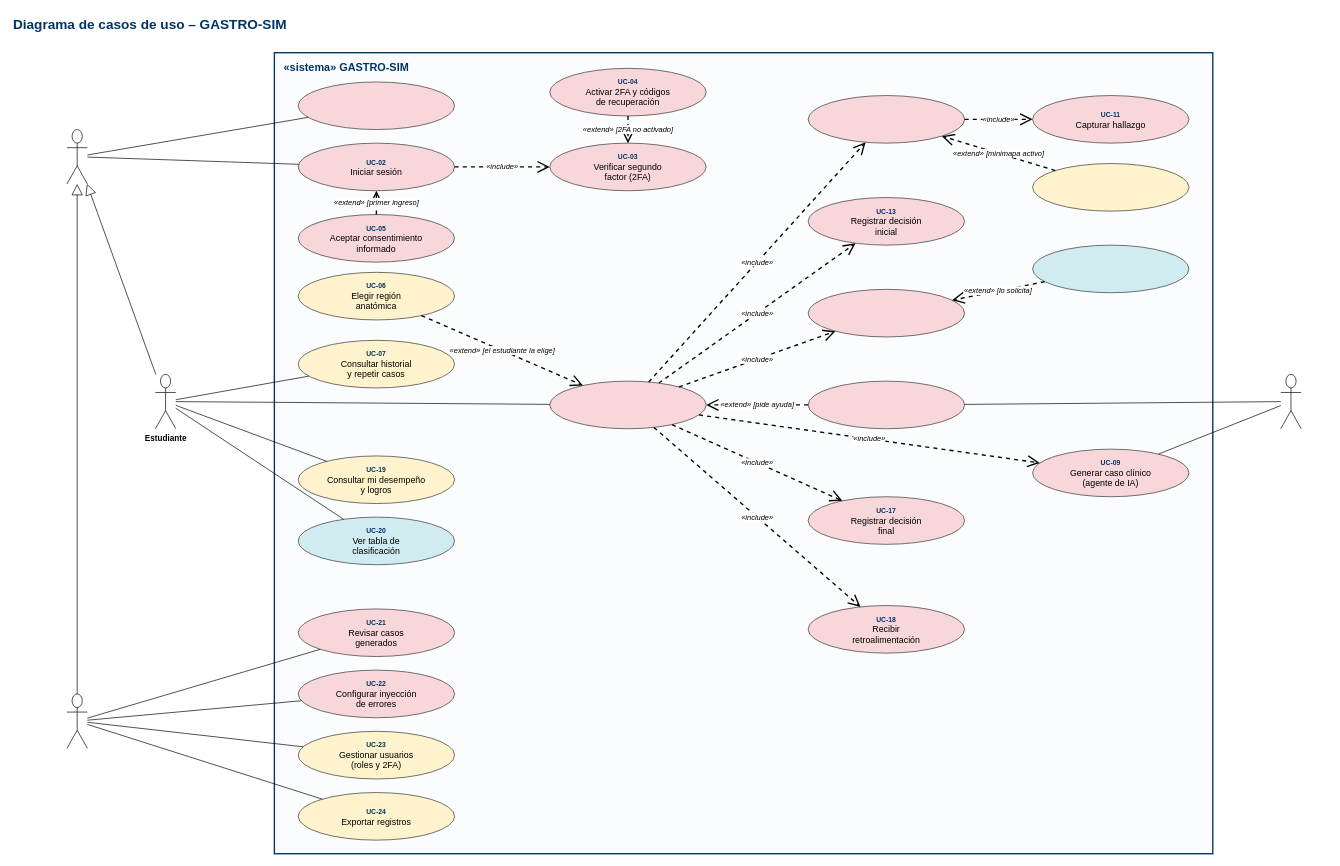
The diagram is 1340 pixels wide and 866 high, and some of its shapes have lost their labels. Each missing label, with the box of its shape:
Docente / Administrador: (66, 693, 87, 748)
Servicio de modelo de lenguaje (LLM) «sistema externo»: (1280, 374, 1301, 429)
UC-01 Registrarse: (298, 81, 455, 130)
UC-08 Resolver caso clínico: (549, 380, 706, 429)
UC-10 Explorar tracto gastrointestinal en 3D: (808, 95, 965, 143)
UC-12 Ver minimapa: (1032, 163, 1189, 211)
UC-14 Ver recomendación de la IA: (808, 289, 965, 337)
UC-15 Ver mapa de calor (Grad-CAM): (1032, 244, 1189, 293)
UC-16 Consultar al agente tutor: (808, 380, 965, 429)
Usuario: (66, 129, 87, 184)
